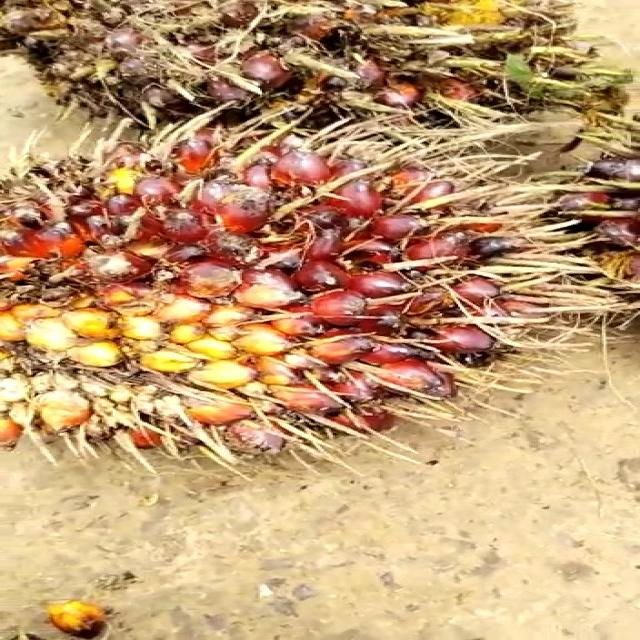palm oil: (0, 114, 587, 467)
